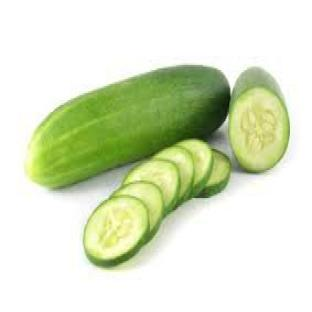Cucumber: (26, 65, 229, 187), (230, 67, 289, 171), (84, 197, 148, 266), (113, 181, 164, 240), (124, 160, 179, 213), (155, 146, 194, 205), (178, 139, 212, 196), (199, 149, 231, 198)
